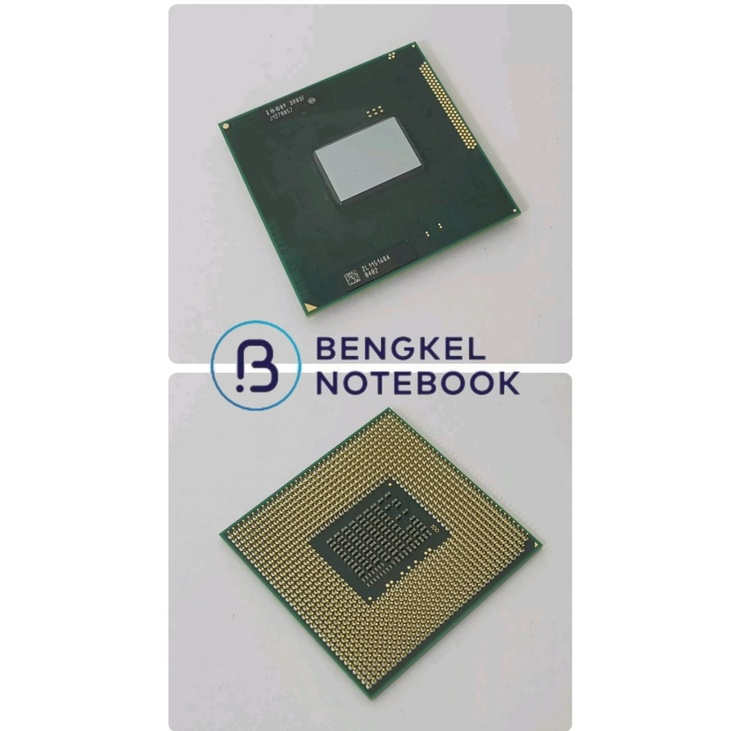processor: (218, 409, 543, 699), (218, 40, 522, 318)
